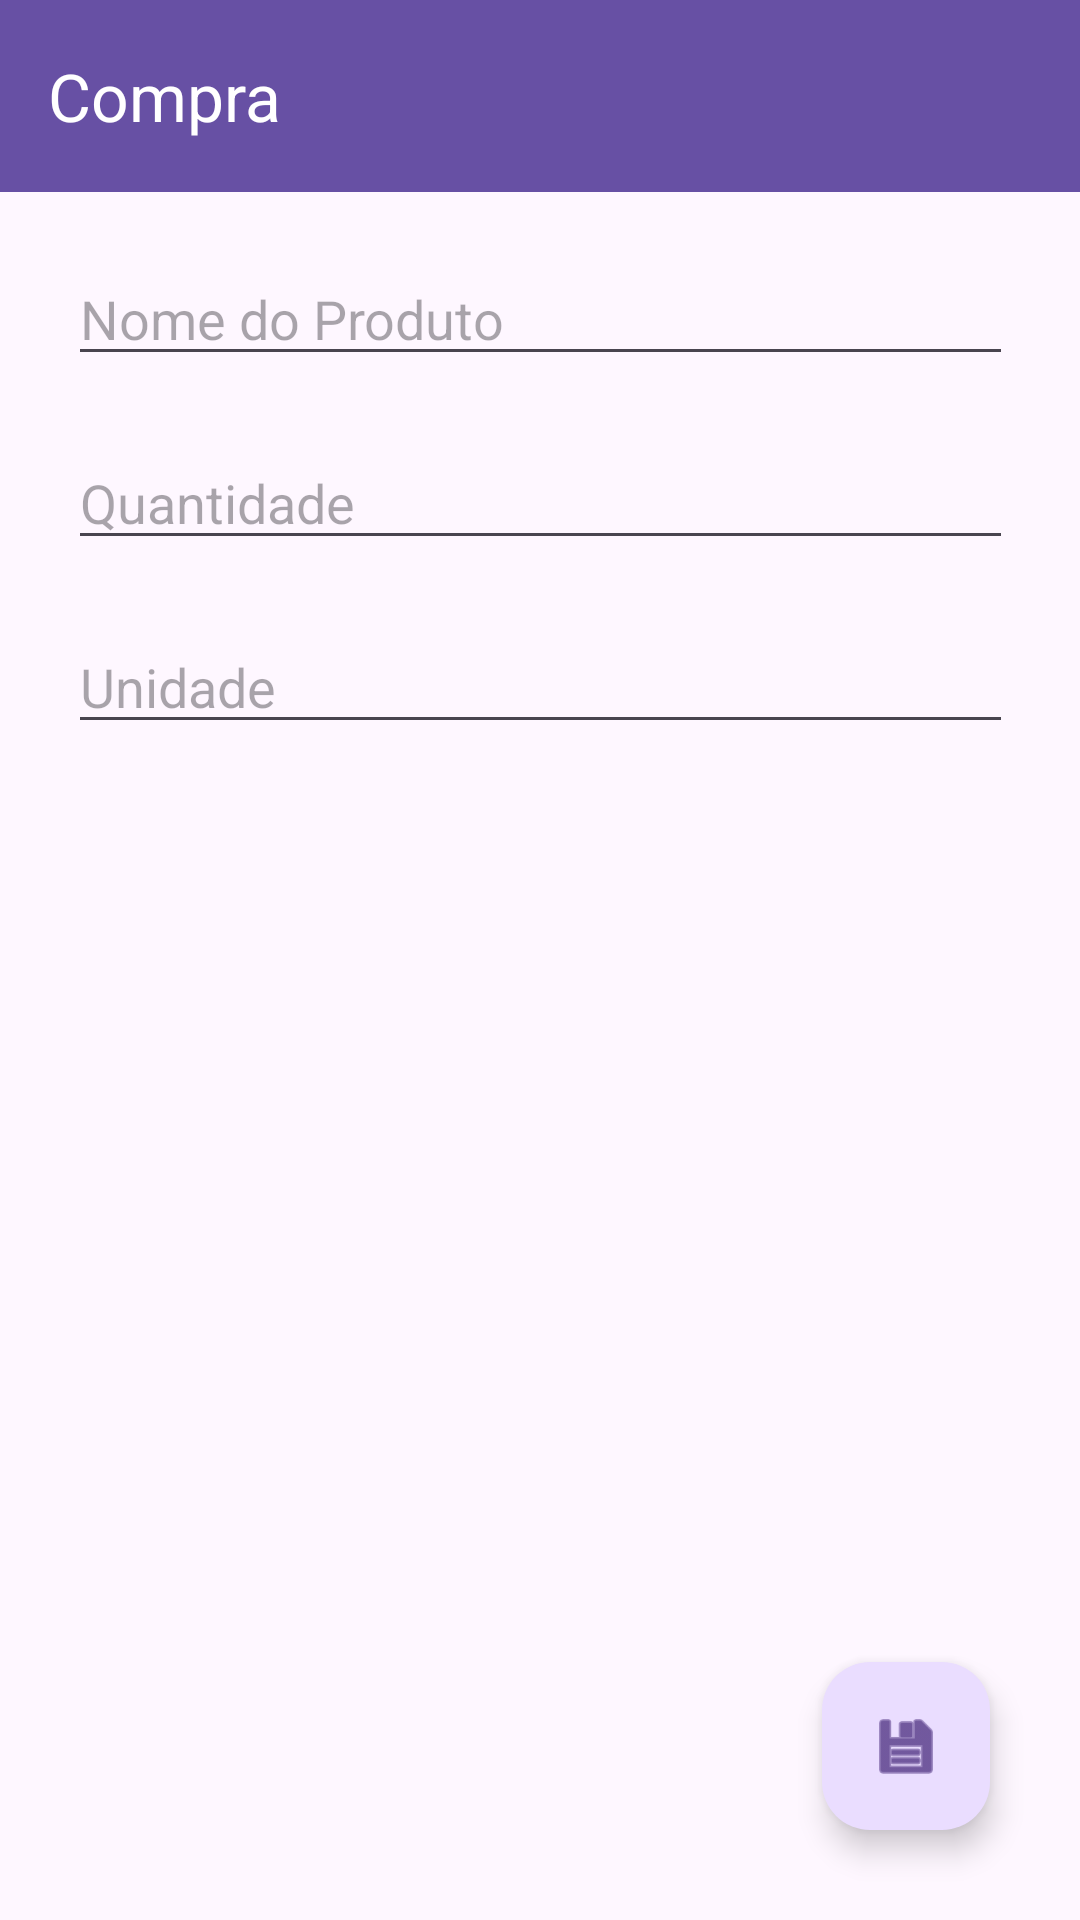

Where to tap for icons on this 1080x1920 app screen, as point (x, y):
Salvar: point (906, 1746)
